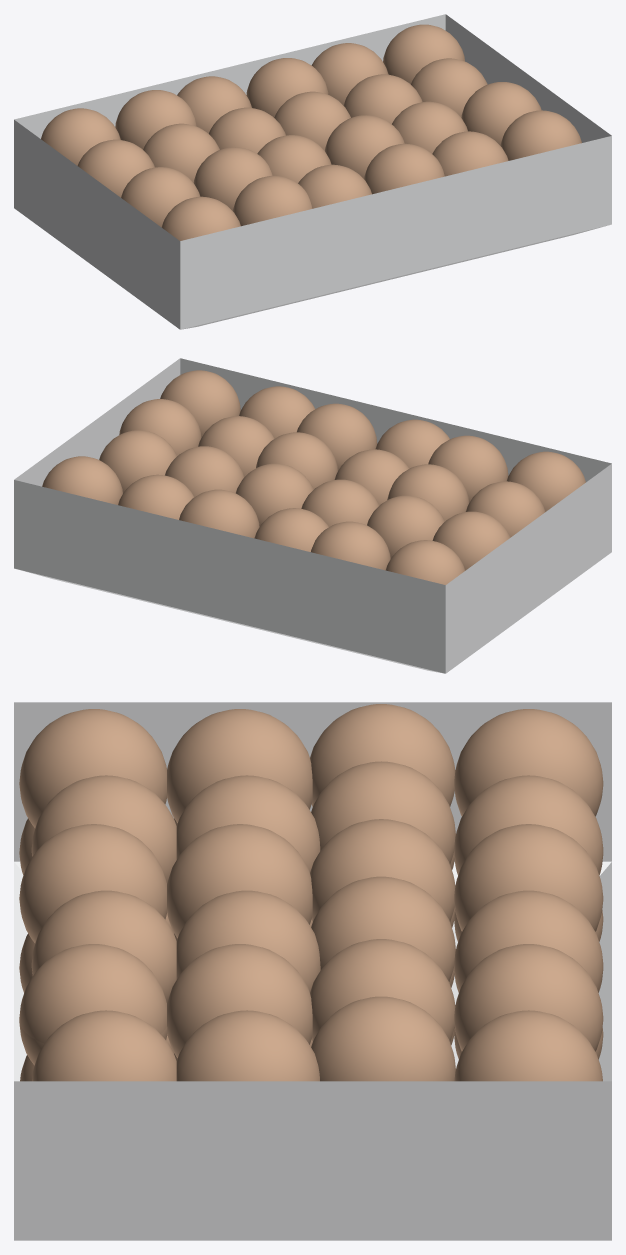
Rendered from bakso-besar.glb.
3 views of the same model, one above another, from view 1: azimuth 30°, elevation 25°; view 2: azimuth 150°, elevation 25°; view 3: azimuth 270°, elevation 25° (orthographic). The views are drawn at different scales.
Parts seen in each view (by area): view 1: Sphere.034; view 2: Sphere.034; view 3: Sphere.034.
Boxes of the visible parts, <box> form: Sphere.034: <box>14,14,611,329</box>; Sphere.034: <box>14,358,611,673</box>; Sphere.034: <box>14,702,611,1240</box>.
Bounding box in the file's own units: 0.18 × 0.046 × 0.12.
